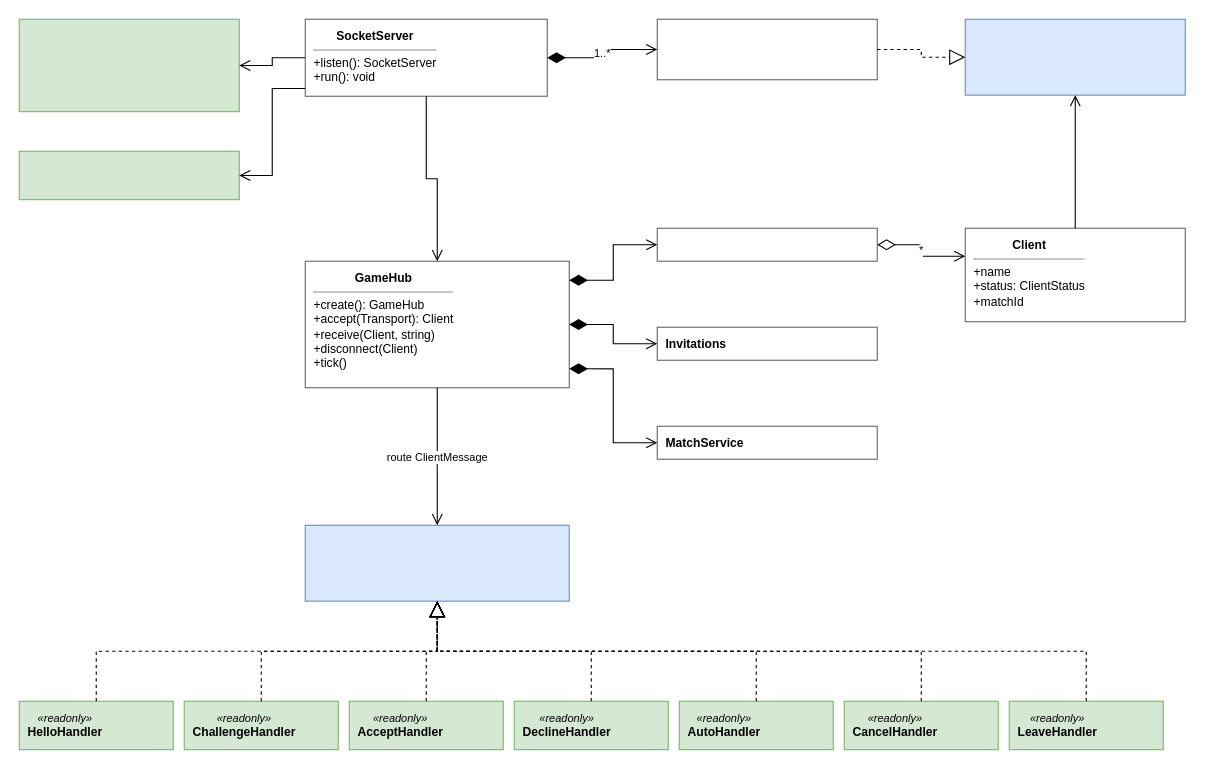
Some shapes in this 1205 by 769 pixel diagram are drawn without their labels. The box of each missing label's shape, as (x1, y1, x2, y2) in pixels:
Connection +send(json): void: (656, 18, 877, 80)
Lobby: (656, 227, 877, 261)
«interface» MessageHandler +handle(Client, msg): void: (304, 524, 569, 601)
«interface» Transport +send(json): void: (964, 18, 1185, 95)
«readonly» FrameCodec +encode(): string +decode(): Frame: (18, 18, 239, 112)
«readonly» Handshake: (18, 150, 239, 200)
